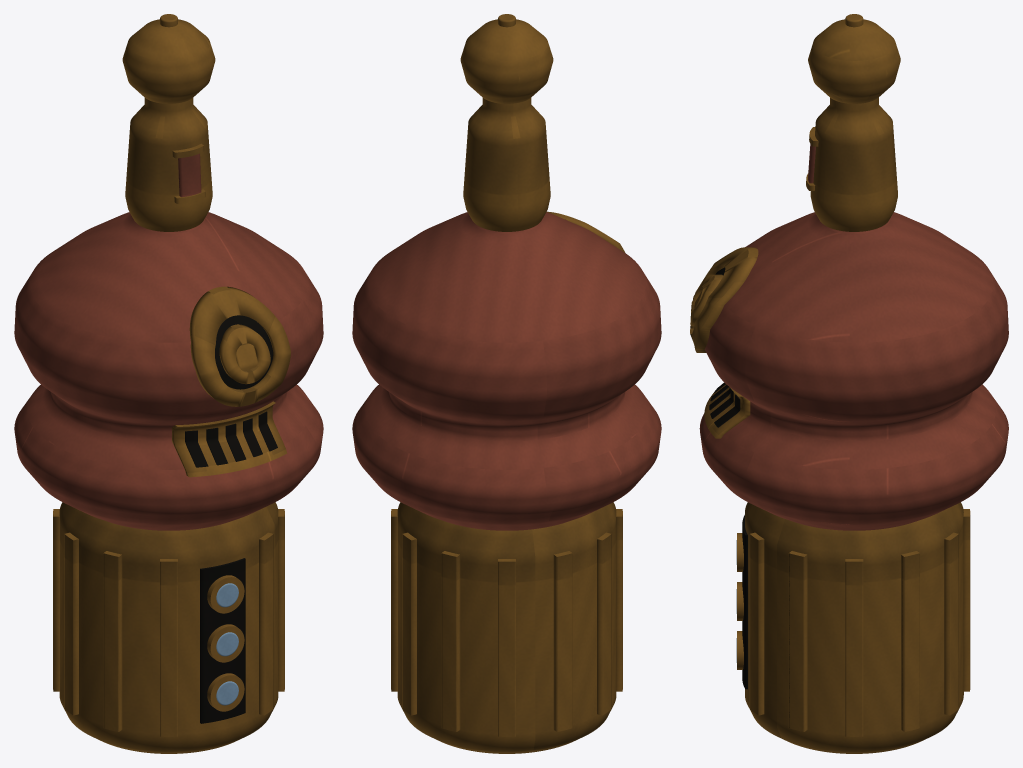
3 renders of one model, left to right at view 1: azimuth 30°, elevation 25°; view 2: azimuth 150°, elevation 25°; view 3: azimuth 270°, elevation 25°, orthographic.
Visible parts, largest first — view 1: BR22 rose double shoulder jar, BR22 gold lower cylinder, BR22 gold upper neck, BR22 front upper broad gold round bezel, BR22 gold terminal globe, BR22 front lower dark equipment backing, BR22 front middle gold louver frame, BR22 lower gold flute 07, BR22 lower gold flute 08, BR22 lower gold flute 06, BR22 lower gold flute 10, BR22 front upper inner gold round fitting (+7 smaller); view 2: BR22 rose double shoulder jar, BR22 gold lower cylinder, BR22 gold upper neck, BR22 gold terminal globe, BR22 lower gold flute 03, BR22 lower gold flute 05, BR22 lower gold flute 04, BR22 lower gold flute 02, BR22 lower gold flute 06, BR22 lower gold flute 01, BR22 lower gold flute 07; view 3: BR22 rose double shoulder jar, BR22 gold lower cylinder, BR22 gold upper neck, BR22 gold terminal globe, BR22 lower gold flute 11, BR22 lower gold flute 01, BR22 lower gold flute 00, BR22 lower gold flute 10, BR22 lower gold flute 02, BR22 front upper broad gold round bezel, BR22 lower gold flute 03, BR22 front middle gold louver frame (+2 smaller).
Boxes of the visible parts, box(x1,y1,x2,y2) form: BR22 rose double shoulder jar: box(14, 212, 323, 530); BR22 gold lower cylinder: box(59, 502, 278, 753); BR22 gold upper neck: box(125, 98, 212, 231); BR22 front upper broad gold round bezel: box(189, 286, 291, 406); BR22 gold terminal globe: box(122, 19, 215, 103); BR22 front lower dark equipment backing: box(200, 558, 245, 723); BR22 front middle gold louver frame: box(172, 401, 287, 477); BR22 lower gold flute 07: box(103, 551, 122, 731); BR22 lower gold flute 08: box(160, 559, 177, 736); BR22 lower gold flute 06: box(64, 532, 78, 715); BR22 lower gold flute 10: box(259, 532, 273, 715); BR22 front upper inner gold round fitting: box(219, 324, 270, 384); BR22 rose double shoulder jar: box(352, 212, 661, 530); BR22 gold lower cylinder: box(397, 502, 616, 753); BR22 gold upper neck: box(463, 98, 550, 231); BR22 gold terminal globe: box(460, 19, 553, 103); BR22 lower gold flute 03: box(441, 551, 460, 731); BR22 lower gold flute 05: box(553, 551, 572, 731); BR22 lower gold flute 04: box(498, 559, 515, 736); BR22 lower gold flute 02: box(402, 532, 416, 715); BR22 lower gold flute 06: box(597, 532, 611, 715); BR22 lower gold flute 01: box(391, 509, 397, 691); BR22 lower gold flute 07: box(616, 509, 622, 691); BR22 rose double shoulder jar: box(699, 212, 1008, 530); BR22 gold lower cylinder: box(745, 502, 963, 753); BR22 gold upper neck: box(810, 97, 897, 231); BR22 gold terminal globe: box(808, 19, 900, 103); BR22 lower gold flute 11: box(788, 551, 807, 731); BR22 lower gold flute 01: box(901, 551, 919, 731); BR22 lower gold flute 00: box(845, 559, 863, 736); BR22 lower gold flute 10: box(749, 532, 764, 715); BR22 lower gold flute 02: box(944, 532, 958, 715); BR22 front upper broad gold round bezel: box(690, 247, 758, 352); BR22 lower gold flute 03: box(963, 509, 970, 691); BR22 front middle gold louver frame: box(704, 383, 750, 438).
Size of the model in its own units: 1.2 by 2.99 by 1.24.
Materials: 4 (4 with a texture image).
